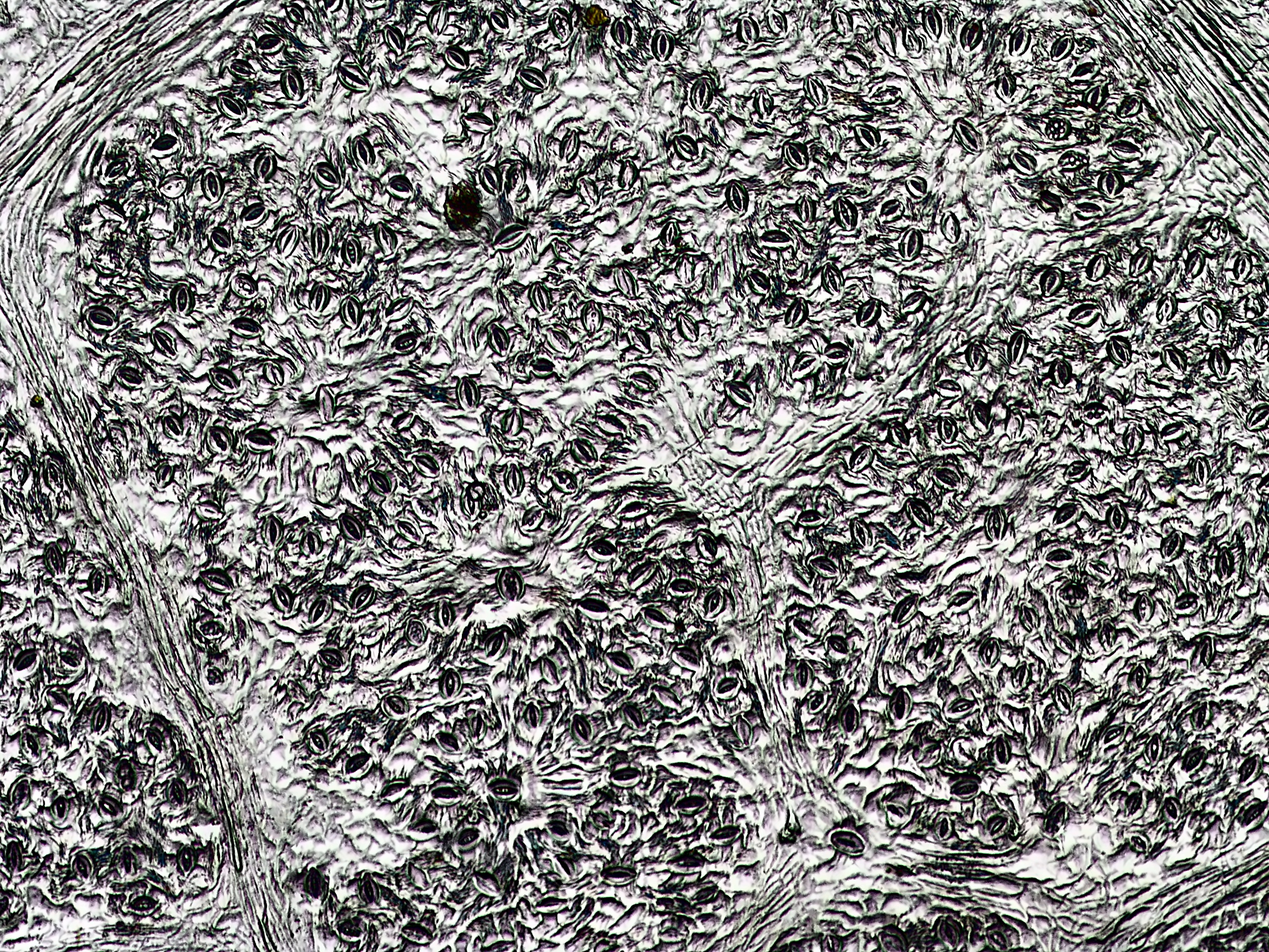stomata: (924, 904, 973, 946), (883, 680, 926, 726), (900, 491, 946, 534), (676, 244, 724, 285), (831, 816, 869, 865), (207, 86, 253, 126), (0, 762, 35, 814), (568, 582, 615, 619), (487, 218, 530, 255), (622, 553, 667, 588), (258, 514, 295, 556), (37, 456, 81, 491), (338, 742, 379, 779), (1232, 792, 1269, 833), (982, 501, 1015, 546), (121, 890, 173, 918), (646, 675, 686, 711), (306, 380, 340, 422), (724, 379, 770, 410), (1032, 804, 1076, 836), (491, 561, 525, 602), (671, 306, 708, 343), (1103, 330, 1141, 366), (480, 618, 513, 659), (90, 243, 129, 277), (888, 583, 918, 627), (565, 708, 597, 749), (872, 78, 913, 110), (428, 775, 464, 811), (444, 109, 502, 131), (611, 148, 640, 192), (244, 423, 280, 458), (704, 581, 734, 623), (667, 636, 701, 673), (695, 523, 732, 557), (548, 462, 586, 495), (825, 331, 855, 372), (379, 686, 413, 722), (1233, 752, 1267, 788), (406, 448, 446, 478), (835, 696, 865, 736), (7, 643, 41, 678), (453, 821, 494, 850), (600, 639, 636, 672), (883, 794, 914, 832), (42, 683, 81, 713), (1210, 538, 1240, 577), (432, 661, 459, 704), (847, 434, 876, 474), (776, 133, 811, 166), (312, 643, 347, 676), (52, 644, 88, 676), (970, 395, 1002, 431), (953, 116, 984, 153), (624, 319, 654, 357), (1038, 256, 1067, 295), (373, 217, 401, 257), (487, 779, 527, 807), (638, 604, 678, 632), (392, 921, 432, 949), (42, 538, 68, 581), (312, 159, 342, 196), (949, 772, 986, 802), (1161, 525, 1191, 562), (405, 854, 434, 892), (579, 535, 618, 563), (667, 849, 709, 875), (853, 291, 881, 330), (1160, 416, 1193, 449), (369, 459, 400, 494), (1040, 679, 1071, 714), (846, 47, 881, 78), (1159, 342, 1189, 378), (1061, 456, 1098, 485), (85, 562, 111, 603), (482, 319, 510, 357), (877, 914, 905, 952), (793, 501, 831, 529), (726, 173, 748, 221), (612, 264, 643, 298), (398, 616, 429, 650), (848, 513, 879, 547), (829, 194, 856, 233), (198, 568, 237, 595), (1169, 589, 1208, 616), (1090, 609, 1117, 648), (1189, 626, 1216, 665), (575, 172, 605, 207), (929, 459, 964, 489), (352, 129, 379, 167), (422, 0, 454, 32), (436, 726, 469, 757), (712, 670, 743, 703), (378, 772, 410, 803), (542, 809, 574, 840), (346, 580, 379, 610), (878, 194, 908, 227), (965, 340, 995, 373), (670, 791, 713, 814), (90, 700, 116, 738), (823, 257, 844, 304), (609, 14, 638, 48), (385, 292, 419, 321), (1079, 394, 1113, 423), (225, 313, 264, 338), (541, 650, 566, 689), (764, 226, 800, 253), (750, 262, 777, 298), (305, 270, 328, 312), (336, 915, 368, 945), (852, 121, 881, 154), (397, 406, 431, 434), (794, 344, 822, 378), (1083, 551, 1117, 579), (1004, 325, 1029, 363), (935, 376, 970, 403), (101, 152, 131, 183), (673, 131, 702, 163), (148, 328, 180, 357), (70, 851, 99, 883), (333, 508, 365, 537), (668, 564, 697, 596), (553, 849, 582, 881), (1187, 451, 1216, 483), (1125, 790, 1154, 822), (579, 297, 604, 334), (569, 437, 602, 465), (504, 404, 532, 437), (469, 871, 502, 899), (594, 408, 634, 431), (275, 576, 298, 616), (437, 592, 460, 632), (440, 39, 466, 74), (1050, 25, 1076, 60), (1097, 164, 1128, 193), (1123, 246, 1154, 275), (805, 72, 829, 109), (399, 514, 423, 551), (460, 483, 484, 520), (1132, 657, 1156, 694), (277, 67, 303, 101), (1051, 356, 1077, 390), (983, 631, 1004, 673), (1141, 726, 1161, 770), (1125, 831, 1165, 853), (385, 23, 410, 58), (255, 148, 280, 183), (341, 293, 366, 328), (1014, 600, 1039, 635), (906, 282, 929, 320), (97, 196, 126, 226), (603, 860, 633, 889), (1184, 743, 1214, 772), (535, 890, 566, 918), (785, 611, 813, 642), (158, 409, 185, 441), (651, 25, 674, 62), (918, 631, 943, 665), (1055, 495, 1080, 529), (628, 369, 657, 398), (150, 129, 181, 156), (708, 826, 746, 848), (1037, 188, 1070, 213), (460, 372, 481, 411), (546, 326, 575, 354), (808, 552, 837, 580), (307, 596, 334, 626), (338, 232, 361, 267), (407, 817, 442, 840), (207, 426, 232, 458), (304, 859, 324, 899), (388, 174, 416, 202), (611, 760, 640, 787), (1194, 297, 1221, 326), (752, 88, 778, 118), (22, 725, 43, 762), (523, 695, 545, 730), (1134, 588, 1156, 623), (1100, 721, 1135, 743), (875, 23, 898, 56), (1010, 24, 1033, 57), (88, 303, 115, 331), (210, 366, 237, 394), (924, 7, 945, 43), (1109, 138, 1145, 159), (1043, 545, 1077, 567), (203, 165, 222, 204), (477, 157, 496, 196), (116, 364, 148, 387), (158, 174, 190, 197), (1194, 700, 1217, 732), (563, 128, 584, 163), (533, 598, 560, 625), (982, 812, 1009, 839), (469, 713, 491, 746), (901, 228, 923, 261), (233, 271, 257, 301), (141, 729, 171, 753), (946, 697, 976, 721), (1162, 790, 1182, 826), (494, 284, 515, 318), (2, 841, 24, 873), (355, 876, 382, 902), (209, 225, 234, 253), (198, 614, 226, 639), (1088, 252, 1113, 280), (1162, 285, 1182, 320), (1075, 299, 1103, 324), (906, 173, 935, 197), (529, 277, 550, 310), (175, 843, 196, 876), (94, 799, 124, 822), (284, 5, 320, 24), (933, 806, 952, 842), (1208, 215, 1234, 241), (887, 417, 913, 443), (939, 214, 964, 241), (1188, 247, 1209, 279), (1211, 344, 1232, 376), (623, 700, 646, 729), (555, 9, 573, 46), (832, 2, 852, 35), (993, 69, 1015, 99), (239, 198, 267, 221), (1246, 405, 1269, 433), (250, 34, 290, 50), (1110, 502, 1130, 534), (790, 292, 808, 327), (529, 353, 555, 377), (993, 733, 1009, 772), (521, 66, 544, 93), (154, 457, 177, 484), (1075, 197, 1109, 215), (768, 4, 788, 34), (902, 26, 922, 56), (394, 329, 417, 355), (197, 499, 224, 521), (798, 194, 817, 225), (220, 61, 262, 75), (1126, 421, 1143, 455), (1016, 663, 1034, 695), (486, 5, 509, 30), (501, 463, 527, 485), (1009, 148, 1035, 170), (309, 221, 324, 259), (279, 221, 296, 254), (691, 82, 711, 110), (7, 453, 27, 481), (791, 657, 811, 685), (54, 791, 72, 822), (116, 848, 135, 877), (948, 591, 977, 610), (804, 692, 829, 714), (527, 506, 548, 532), (173, 282, 190, 313), (969, 16, 984, 51), (343, 58, 362, 85), (306, 528, 325, 555), (1071, 63, 1103, 79), (663, 219, 678, 253), (933, 418, 959, 437), (829, 630, 847, 657), (1235, 252, 1253, 279), (263, 359, 286, 380), (1122, 97, 1146, 117), (738, 14, 757, 39), (314, 726, 329, 756), (170, 781, 187, 807), (1086, 83, 1103, 107)
